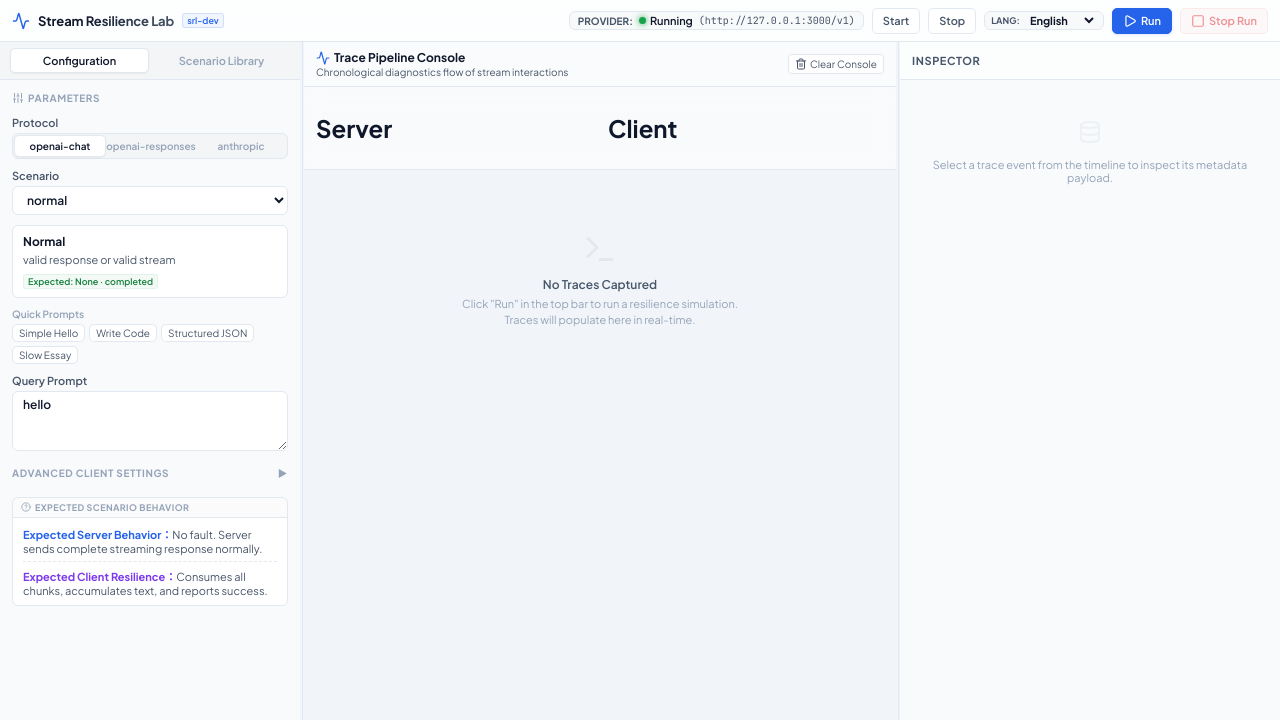
Test: desktop app › describes consumer-drop as client-side cancellation in the desktop scenario card
Check: the text "running" is shown, box [650,14,693,27]
Select "consumer-drop" in the dropdown labelled "Scenario" at point(150, 200), box [12,186,288,215]
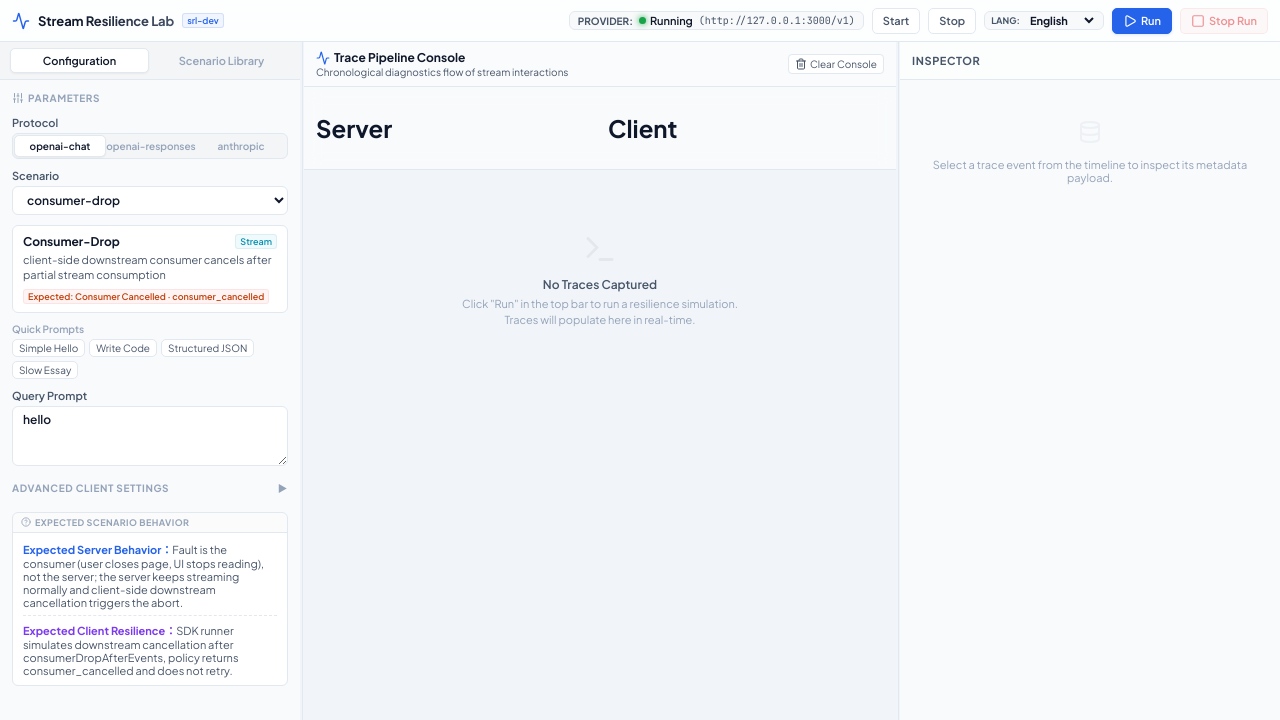
Check: the text "client-side downstream consumer cancels" is shown, box [23,253,272,281]
